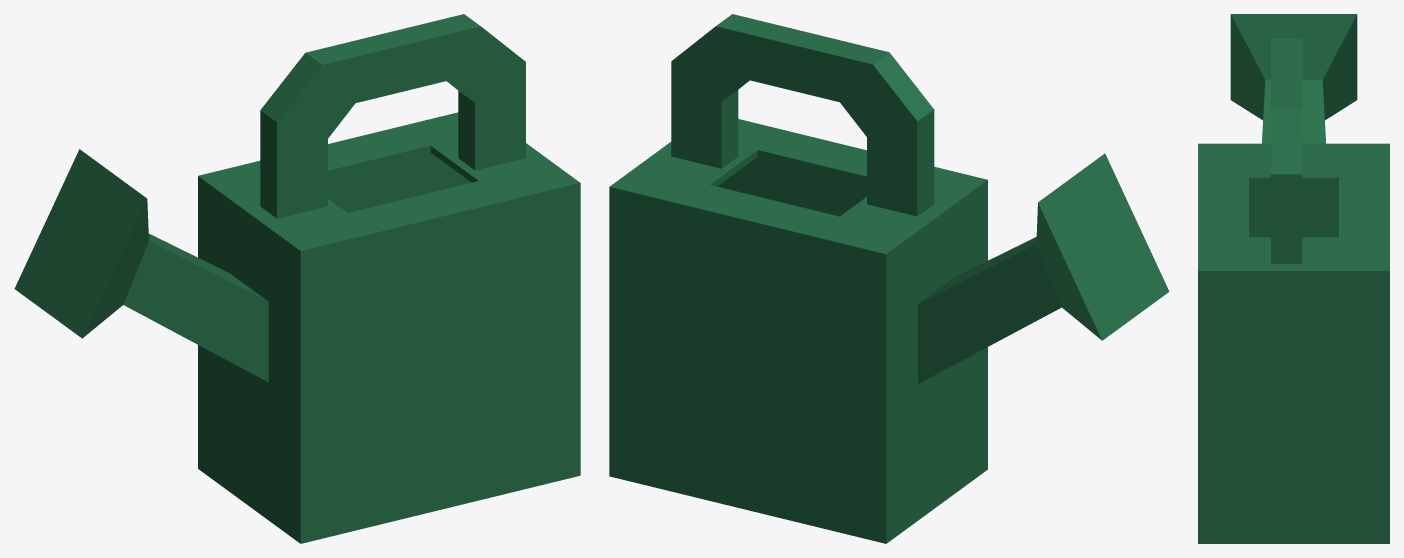
Rendered from WATERING_CAN.fbx.
3 renders of one model, left to right at view 1: azimuth 30°, elevation 25°; view 2: azimuth 150°, elevation 25°; view 3: azimuth 270°, elevation 25°, orthographic. The views are drawn at different scales.
Parts seen in each view (by area): view 1: watering can; view 2: watering can; view 3: watering can.
Part boxes in pixels (x1,y1,x2,y2): watering can: [14, 14, 580, 543]; watering can: [609, 14, 1169, 543]; watering can: [1198, 14, 1389, 543].
Size of the model in its own units: 46.29 by 40.08 by 17.16.
